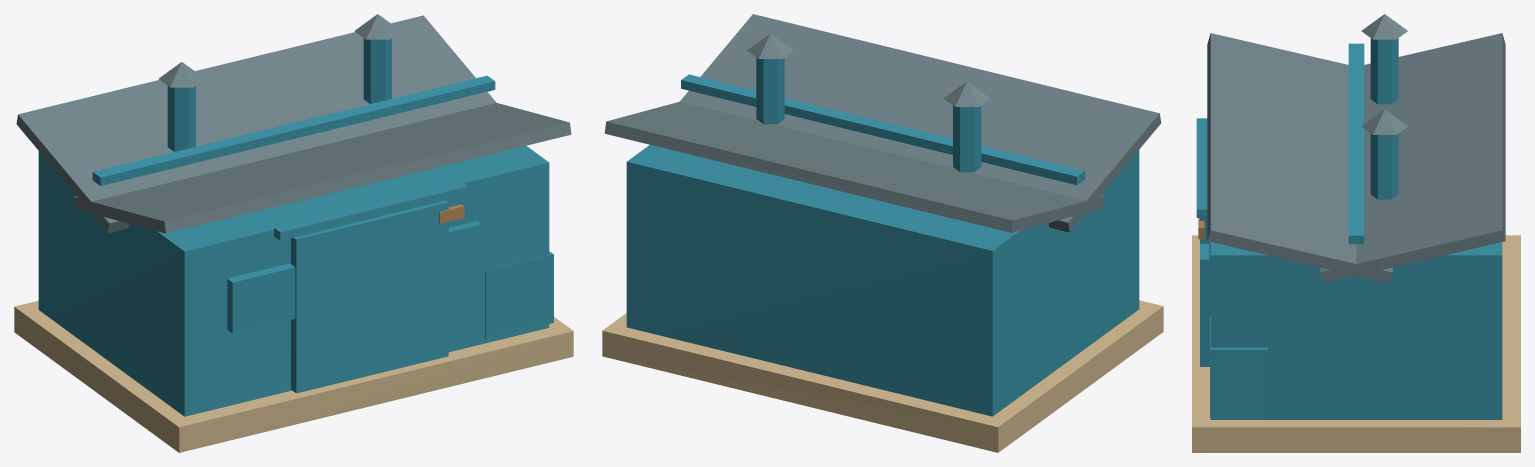
The model's file is hatchery.source.glb.
The picture shows the model from 3 angles, left to right: view 1: azimuth 30°, elevation 25°; view 2: azimuth 150°, elevation 25°; view 3: azimuth 270°, elevation 25°; orthographic projection.
Parts seen in each view (by area): view 1: hatchery-shallow-galvanized-hatchery-roof-mesh (×2), hatchery-compact-insulated-hatchery-body-mesh, hatchery-wide-insulated-service-door-panel-mesh, hatchery-low-stone-washable-curb-mesh, hatchery-roof-ridge-mesh, hatchery-hatch-output-service-bay-mesh, hatchery-small-egg-input-loading-hatch-mesh, hatchery-narrow-ventilation-stack-mesh (×2), hatchery-service-door-track-mesh, hatchery-brooder-room-vent-cue-mesh, hatchery-ventilation-stack-cap-mesh (×2); view 2: hatchery-compact-insulated-hatchery-body-mesh, hatchery-shallow-galvanized-hatchery-roof-mesh (×2), hatchery-low-stone-washable-curb-mesh, hatchery-roof-ridge-mesh, hatchery-narrow-ventilation-stack-mesh (×2), hatchery-ventilation-stack-cap-mesh (×2); view 3: hatchery-shallow-galvanized-hatchery-roof-mesh (×2), hatchery-compact-insulated-hatchery-body-mesh, hatchery-low-stone-washable-curb-mesh, hatchery-hatch-output-service-bay-mesh, hatchery-narrow-ventilation-stack-mesh (×2), hatchery-roof-ridge-mesh, hatchery-ventilation-stack-cap-mesh (×2), hatchery-service-door-track-mesh, hatchery-wide-insulated-service-door-panel-mesh, hatchery-brooder-room-vent-cue-mesh.
Part boxes in pixels (box(x1,y1,x2,y2)): hatchery-shallow-galvanized-hatchery-roof-mesh (×2): box(16, 15, 571, 233); hatchery-compact-insulated-hatchery-body-mesh: box(38, 146, 549, 416); hatchery-wide-insulated-service-door-panel-mesh: box(291, 200, 448, 393); hatchery-low-stone-washable-curb-mesh: box(14, 300, 573, 452); hatchery-roof-ridge-mesh: box(92, 75, 495, 185); hatchery-hatch-output-service-bay-mesh: box(485, 251, 553, 339); hatchery-small-egg-input-loading-hatch-mesh: box(227, 263, 295, 333); hatchery-narrow-ventilation-stack-mesh (×2): box(167, 38, 391, 151); hatchery-service-door-track-mesh: box(274, 182, 467, 240); hatchery-brooder-room-vent-cue-mesh: box(421, 221, 481, 261); hatchery-ventilation-stack-cap-mesh (×2): box(158, 14, 400, 87); hatchery-compact-insulated-hatchery-body-mesh: box(626, 145, 1139, 416); hatchery-shallow-galvanized-hatchery-roof-mesh (×2): box(604, 14, 1161, 232); hatchery-low-stone-washable-curb-mesh: box(602, 300, 1163, 452); hatchery-roof-ridge-mesh: box(681, 74, 1084, 185); hatchery-narrow-ventilation-stack-mesh (×2): box(756, 57, 981, 172); hatchery-ventilation-stack-cap-mesh (×2): box(747, 33, 990, 106); hatchery-shallow-galvanized-hatchery-roof-mesh (×2): box(1207, 33, 1505, 283); hatchery-compact-insulated-hatchery-body-mesh: box(1210, 242, 1502, 419); hatchery-low-stone-washable-curb-mesh: box(1192, 235, 1520, 452); hatchery-hatch-output-service-bay-mesh: box(1210, 316, 1267, 417); hatchery-narrow-ventilation-stack-mesh (×2): box(1370, 38, 1398, 199); hatchery-roof-ridge-mesh: box(1348, 43, 1364, 244); hatchery-ventilation-stack-cap-mesh (×2): box(1361, 14, 1407, 134); hatchery-service-door-track-mesh: box(1196, 118, 1207, 217); hatchery-wide-insulated-service-door-panel-mesh: box(1200, 218, 1210, 366); hatchery-brooder-room-vent-cue-mesh: box(1200, 243, 1209, 282).
Bounding box in the file's own units: 2.98 × 2.08 × 2.1.
